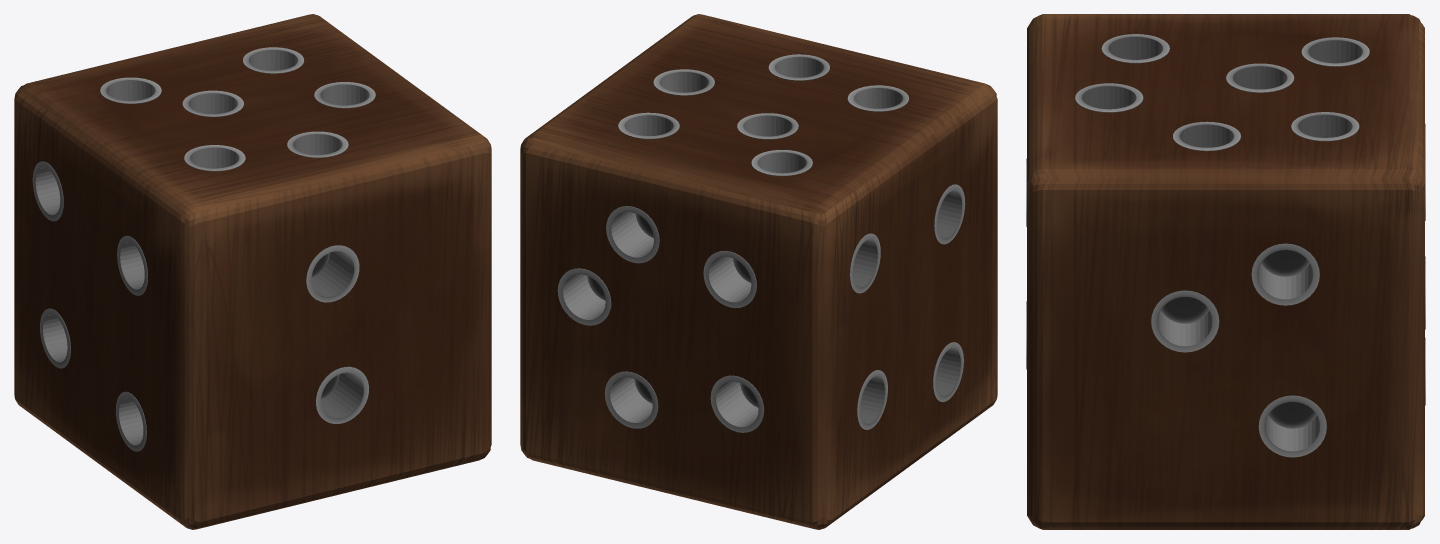
File: dice_v4.gltf
The picture shows the model from 3 angles, left to right: view 1: azimuth 30°, elevation 25°; view 2: azimuth 150°, elevation 25°; view 3: azimuth 270°, elevation 25°; orthographic projection. The views are drawn at different scales.
Parts seen in each view (by area): view 1: Cube, Cylinder.009, Cylinder.008, Cylinder.012, Cylinder.010, Cylinder.013, Cylinder.011, Cylinder.005, Cylinder.002, Cylinder.003, Cylinder.004, Cylinder.006 (+1 smaller); view 2: Cube, Cylinder.021, Cylinder.019, Cylinder.017, Cylinder.020, Cylinder.014, Cylinder.012, Cylinder.010, Cylinder.013, Cylinder.011, Cylinder.004, Cylinder.001 (+4 smaller); view 3: Cube, Cylinder.015, Cylinder.016, Cylinder.018, Cylinder.003, Cylinder.004, Cylinder.005, Cylinder.002, Cylinder.006, Cylinder.001.
Boxes of the visible parts, left/top/right/bottom form: Cube: left=14, top=14, right=491, bottom=529; Cylinder.009: left=306, top=245, right=359, bottom=302; Cylinder.008: left=315, top=366, right=368, bottom=423; Cylinder.012: left=32, top=161, right=63, bottom=221; Cylinder.010: left=115, top=391, right=146, bottom=451; Cylinder.013: left=117, top=235, right=147, bottom=295; Cylinder.011: left=40, top=308, right=70, bottom=368; Cylinder.005: left=100, top=77, right=161, bottom=103; Cylinder.002: left=287, top=131, right=348, bottom=157; Cylinder.003: left=243, top=47, right=304, bottom=73; Cylinder.004: left=182, top=90, right=243, bottom=116; Cylinder.006: left=184, top=145, right=245, bottom=171; Cube: left=520, top=14, right=997, bottom=529; Cylinder.021: left=557, top=268, right=611, bottom=325; Cylinder.019: left=604, top=371, right=658, bottom=428; Cylinder.017: left=710, top=375, right=764, bottom=432; Cylinder.020: left=606, top=206, right=659, bottom=263; Cylinder.014: left=703, top=250, right=756, bottom=308; Cylinder.012: left=849, top=233, right=880, bottom=293; Cylinder.010: left=933, top=342, right=963, bottom=401; Cylinder.013: left=934, top=184, right=965, bottom=244; Cylinder.011: left=857, top=370, right=887, bottom=429; Cylinder.004: left=737, top=113, right=798, bottom=139; Cylinder.001: left=653, top=69, right=714, bottom=95; Cube: left=1027, top=14, right=1424, bottom=529; Cylinder.015: left=1251, top=243, right=1319, bottom=305; Cylinder.016: left=1151, top=290, right=1219, bottom=352; Cylinder.018: left=1258, top=395, right=1326, bottom=457; Cylinder.003: left=1291, top=112, right=1359, bottom=141; Cylinder.004: left=1226, top=63, right=1294, bottom=92; Cylinder.005: left=1301, top=37, right=1369, bottom=66; Cylinder.002: left=1075, top=83, right=1143, bottom=112; Cylinder.006: left=1101, top=34, right=1169, bottom=63; Cylinder.001: left=1173, top=121, right=1240, bottom=151.
Bounding box in the file's own units: 2.01 × 2.01 × 2.01.
17 materials, 17 textured.
